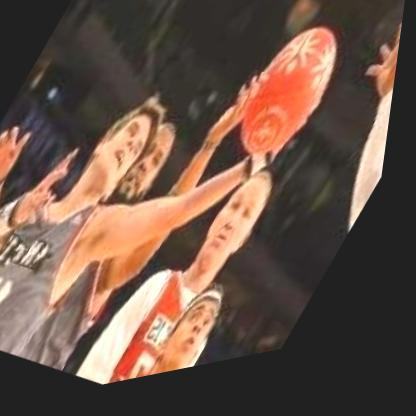basketball: (223, 26, 358, 185)
